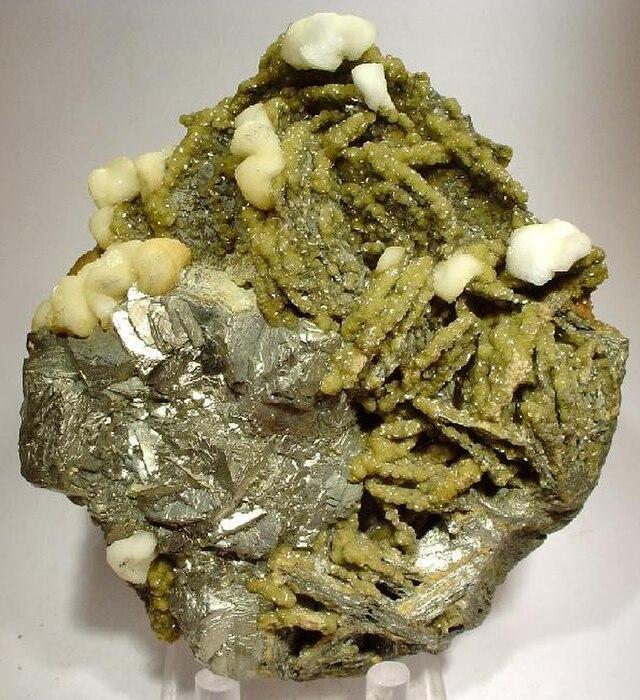pyrite: (19, 29, 604, 681)
